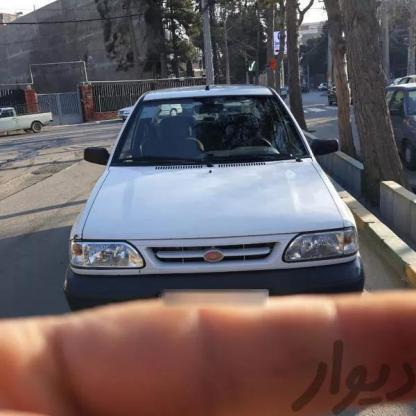Car: (66, 83, 374, 325), (367, 72, 416, 179), (0, 118, 53, 132), (331, 82, 360, 107)
